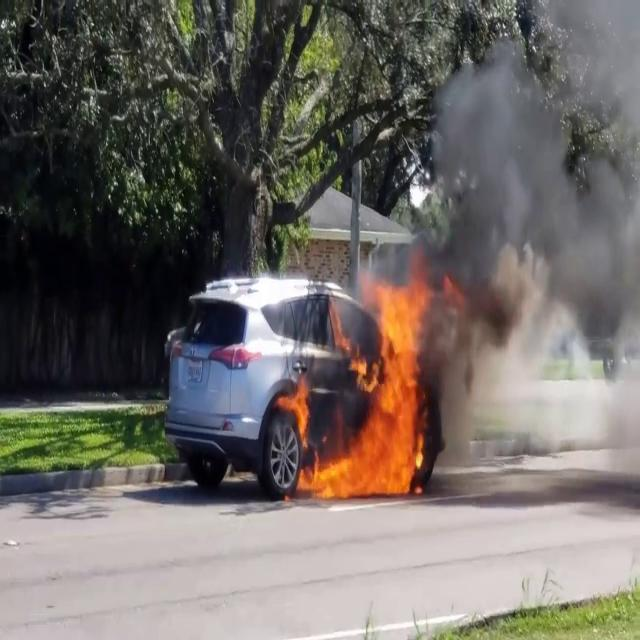Fire: (301, 272, 434, 510)
Smoke: (416, 36, 640, 504), (405, 32, 640, 364), (418, 224, 640, 504)
